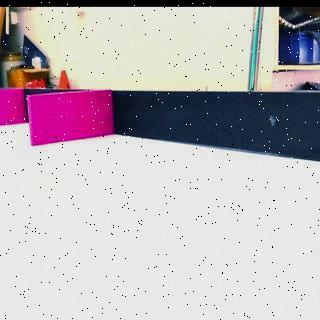xparking: (30, 93, 114, 134), (1, 88, 24, 122)
